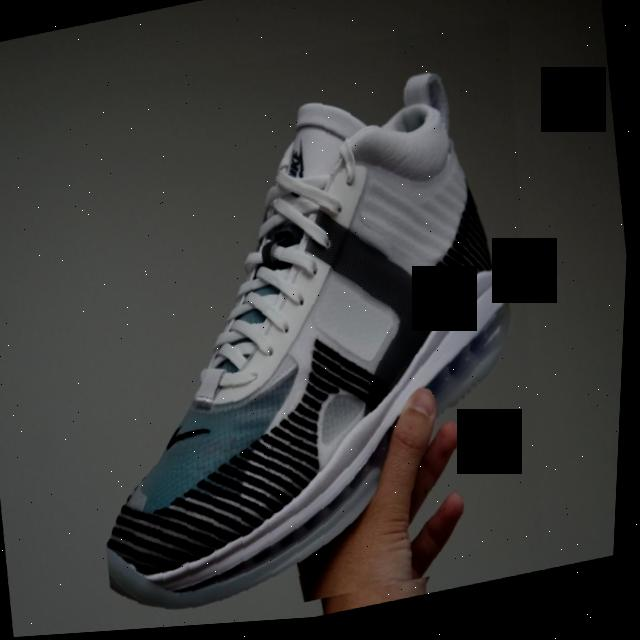shoe: (45, 5, 585, 636)
